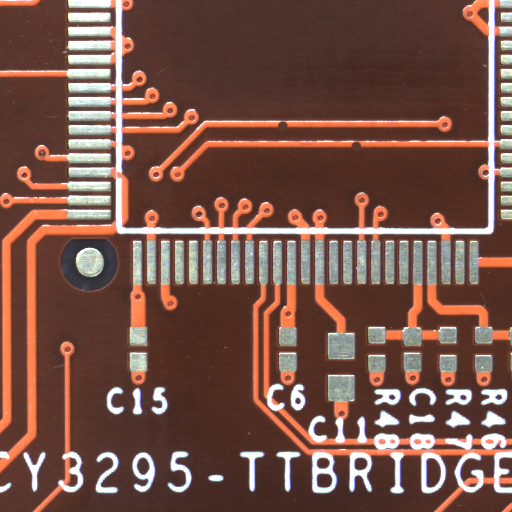Mouse_bite: (355, 144, 372, 156), (281, 125, 297, 136)
